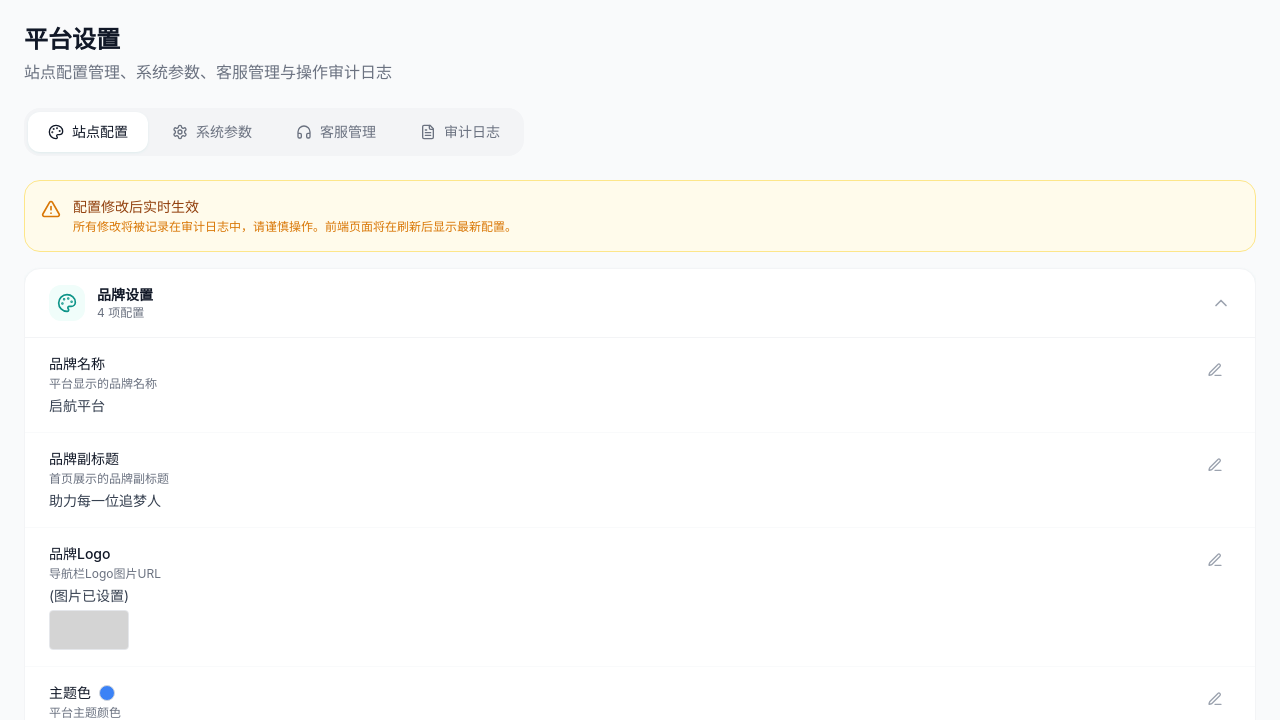
AdminSettings › 配置保存 (saveConfig) › 正常：保存后显示"已保存"成功标记
Expected: the button "站点配置" is shown, top-left (28, 112), bottom-right (148, 152)
Click the button without text in the row of "平台显示的品牌名称" at (1215, 370), box top-left (1199, 354), bottom-right (1231, 386)
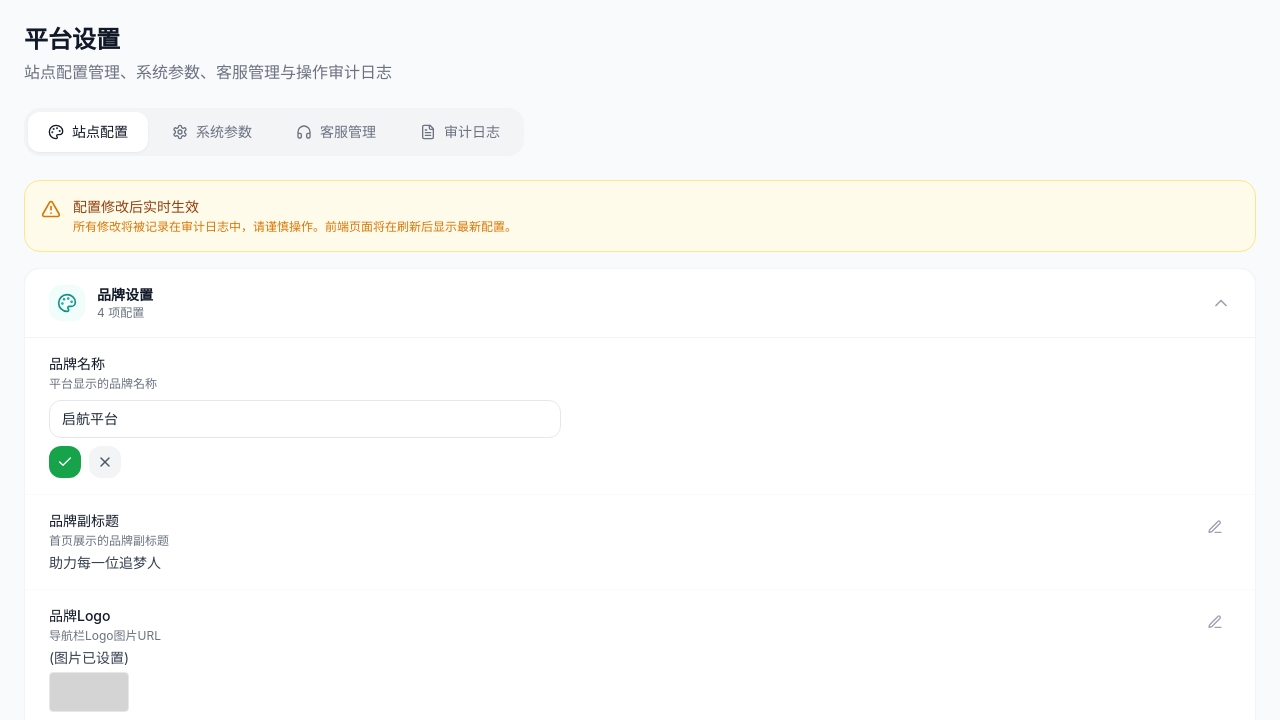
Click the 6th button at (65, 462), box top-left (49, 446), bottom-right (81, 478)
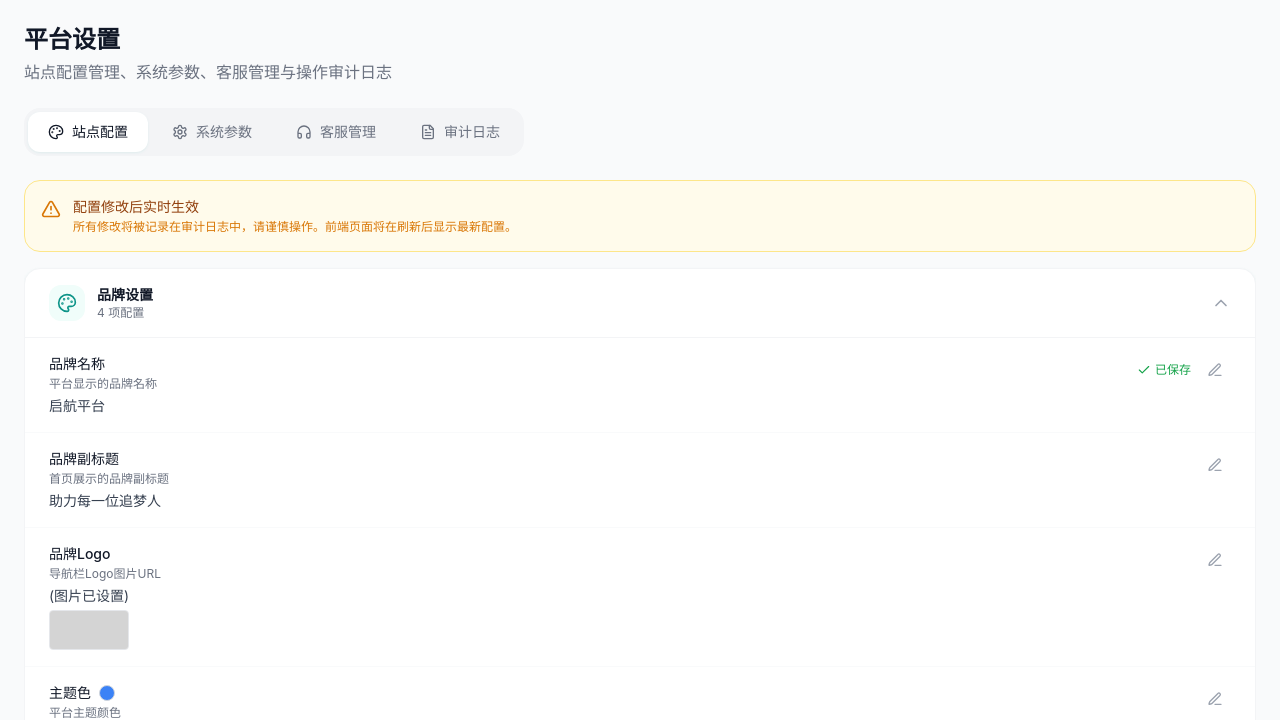
Expected: the text "已保存" is shown, top-left (1137, 362), bottom-right (1191, 378)
